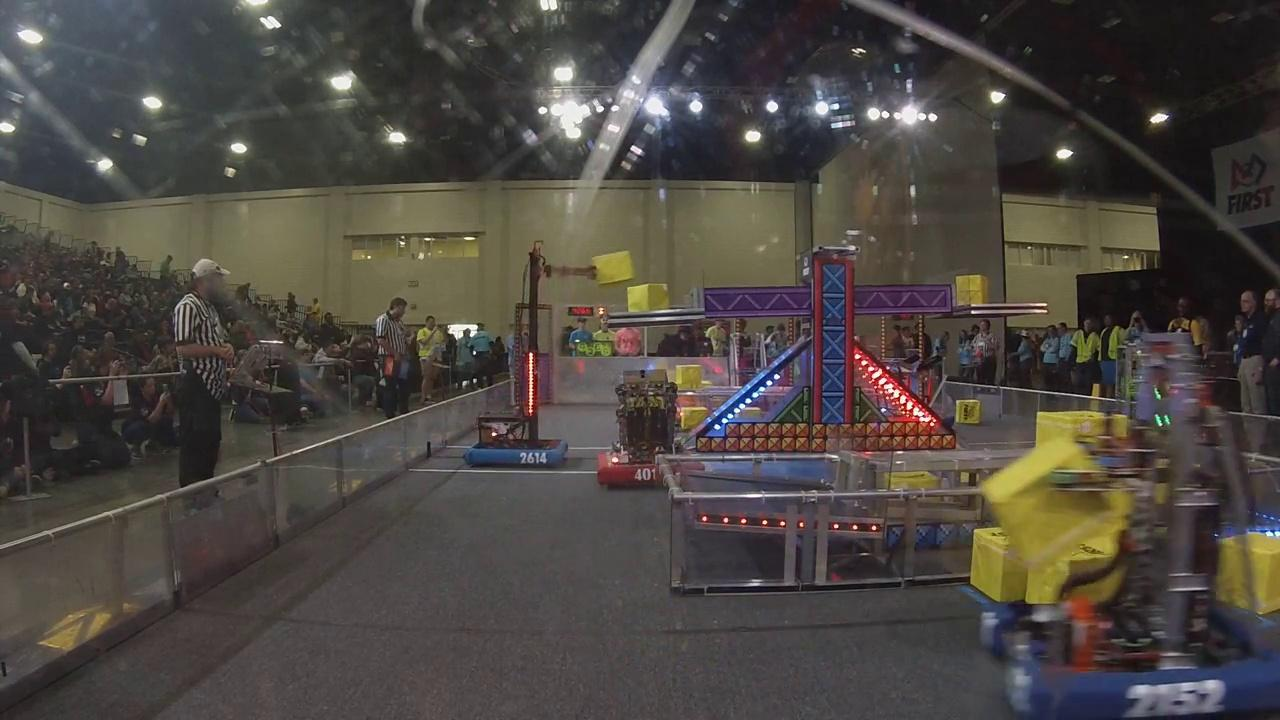robot: (963, 332, 1280, 720), (459, 247, 573, 468), (593, 370, 708, 490)
